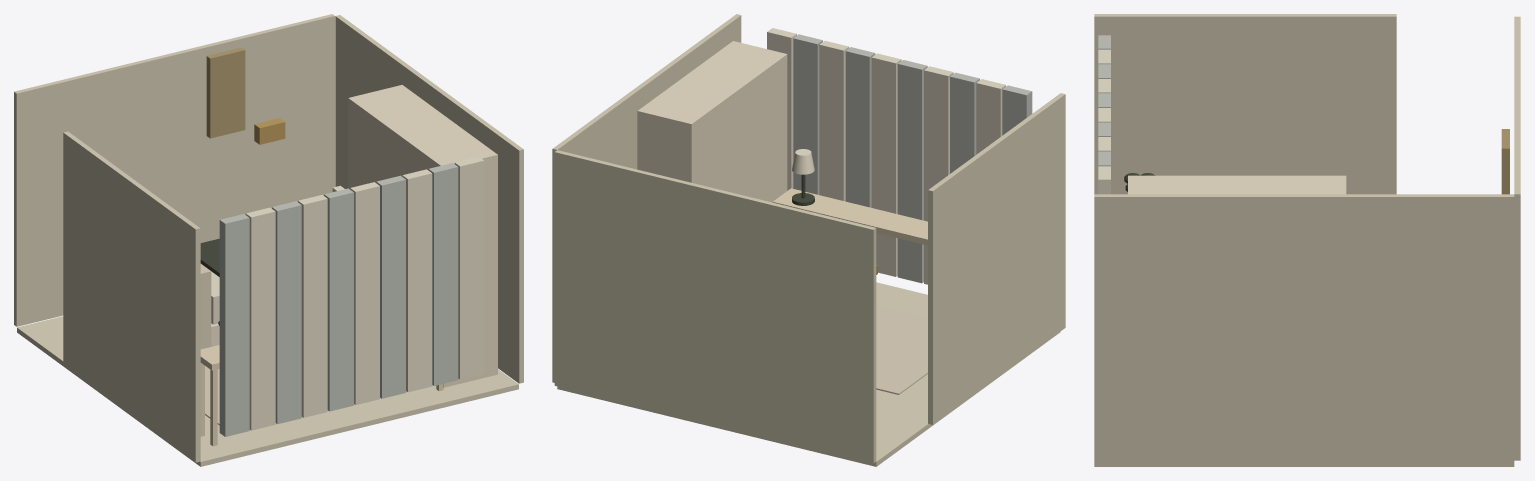
The model's file is room-proxy.glb.
The picture shows the model from 3 angles, left to right: view 1: azimuth 30°, elevation 25°; view 2: azimuth 150°, elevation 25°; view 3: azimuth 270°, elevation 25°; orthographic projection. The views are drawn at different scales.
Visible parts, largest first — view 1: proxy-back-wall, proxy-left-wall-after-entry, proxy-right-wall, REF-L02-R01-wardrobe-part-1, proxy-floor, REF-L02-R01-curtain-part-1, REF-L02-R01-curtain-part-2, REF-L02-R01-curtain-part-8, REF-L02-R01-curtain-part-10, REF-L02-R01-curtain-part-5, REF-L02-R01-curtain-part-3, REF-L02-R01-curtain-part-4 (+8 smaller); view 2: proxy-back-wall, proxy-left-wall-after-entry, REF-L02-R01-wardrobe-part-1, proxy-right-wall, proxy-floor, REF-L02-R01-curtain-part-5, REF-L02-R01-curtain-part-6, REF-L02-R01-curtain-part-7, REF-L02-R01-curtain-part-8, REF-L02-R01-rug-part-1, REF-L02-R01-curtain-part-9, REF-L02-R01-curtain-part-4 (+5 smaller); view 3: proxy-right-wall, proxy-left-wall-after-entry, REF-L02-R01-wardrobe-part-1, proxy-back-wall, proxy-floor, REF-L02-R01-wall-art-part-1.
Boxes of the visible parts, x1,y1,x2,y2 form: proxy-back-wall: (14, 14, 334, 326); proxy-left-wall-after-entry: (63, 131, 200, 462); proxy-right-wall: (335, 15, 523, 383); REF-L02-R01-wardrobe-part-1: (348, 85, 497, 387); proxy-floor: (17, 316, 518, 466); REF-L02-R01-curtain-part-1: (219, 214, 249, 436); REF-L02-R01-curtain-part-2: (245, 207, 275, 430); REF-L02-R01-curtain-part-8: (402, 169, 432, 392); REF-L02-R01-curtain-part-10: (454, 156, 484, 379); REF-L02-R01-curtain-part-5: (324, 188, 353, 411); REF-L02-R01-curtain-part-3: (272, 201, 301, 424); REF-L02-R01-curtain-part-4: (298, 195, 327, 417); proxy-back-wall: (554, 150, 876, 463); proxy-left-wall-after-entry: (928, 93, 1065, 424); REF-L02-R01-wardrobe-part-1: (637, 41, 787, 202); proxy-right-wall: (552, 14, 741, 382); proxy-floor: (557, 282, 1060, 466); REF-L02-R01-curtain-part-5: (897, 60, 927, 283); REF-L02-R01-curtain-part-6: (871, 53, 901, 276); REF-L02-R01-curtain-part-7: (845, 47, 875, 207); REF-L02-R01-curtain-part-8: (819, 40, 849, 201); REF-L02-R01-rug-part-1: (876, 305, 927, 394); REF-L02-R01-curtain-part-9: (793, 34, 822, 194); REF-L02-R01-curtain-part-4: (924, 66, 953, 284); proxy-right-wall: (1094, 194, 1514, 463); proxy-left-wall-after-entry: (1094, 14, 1396, 194); REF-L02-R01-wardrobe-part-1: (1128, 175, 1346, 194); proxy-back-wall: (1514, 16, 1520, 460); proxy-floor: (1094, 463, 1514, 466); REF-L02-R01-wall-art-part-1: (1501, 129, 1509, 194).
Size of the model in its own units: 1.03 by 0.7165 by 1.02.
